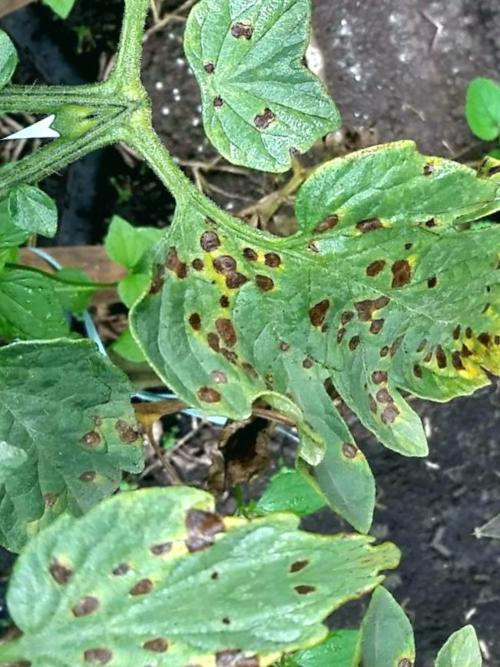Tomato Early blight leaf: (118, 141, 500, 566), (0, 289, 171, 565)
